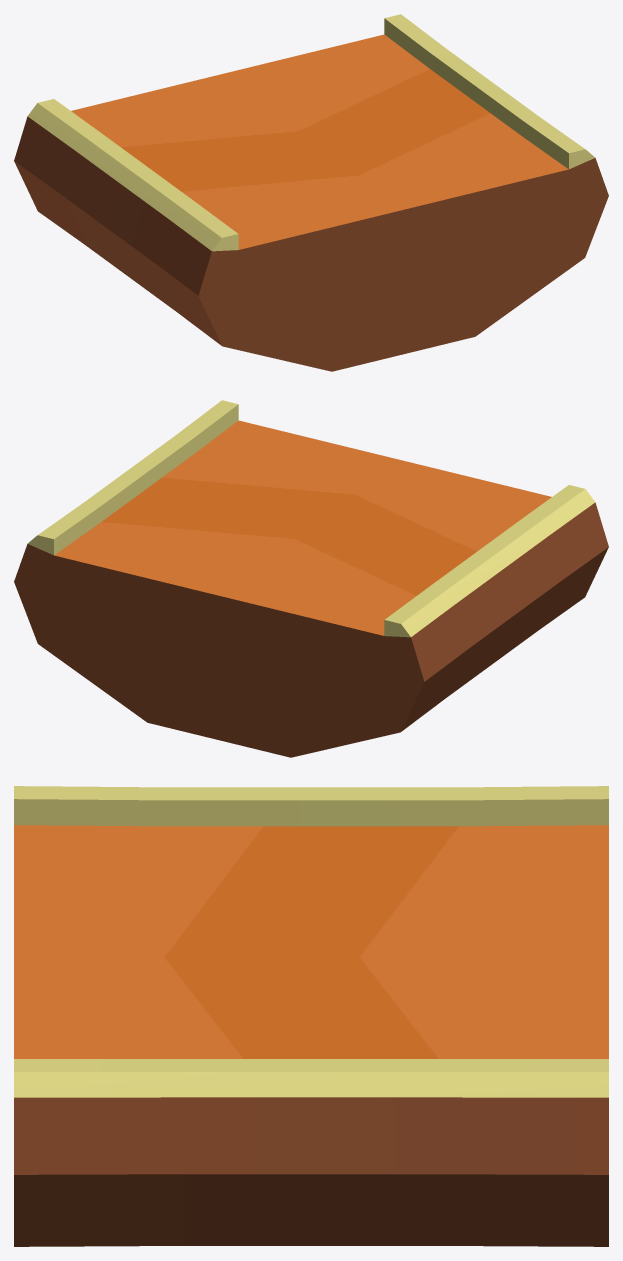
File: gemi_tekli_parca.fbx
The picture shows the model from 3 angles, top to bottom: view 1: azimuth 30°, elevation 25°; view 2: azimuth 150°, elevation 25°; view 3: azimuth 270°, elevation 25°; orthographic projection. The views are drawn at different scales.
Parts seen in each view (by area): view 1: tekli; view 2: tekli; view 3: tekli.
Boxes of the visible parts, x1=… form: tekli: x1=14, y1=14, x2=608, y2=371; tekli: x1=14, y1=400, x2=608, y2=757; tekli: x1=14, y1=786, x2=608, y2=1246.
Bounding box in the file's own units: 514 × 192 × 400.
3 materials, 1 textured.
